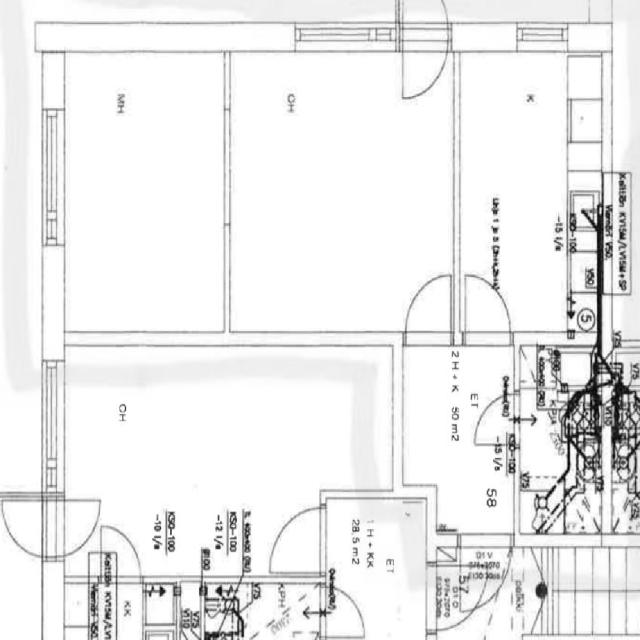door: (397, 348, 516, 512), (393, 1, 452, 111), (264, 498, 329, 582), (396, 266, 456, 354), (456, 266, 514, 354), (0, 489, 51, 562), (51, 492, 103, 562), (319, 580, 368, 639), (100, 523, 144, 584), (468, 392, 514, 448)
window: (457, 11, 616, 56), (34, 78, 72, 255), (292, 11, 398, 62), (34, 360, 70, 496)
zone: (222, 31, 459, 340), (61, 363, 352, 563), (52, 44, 229, 350), (455, 28, 601, 349), (396, 338, 513, 529), (514, 397, 635, 537), (324, 493, 429, 640), (0, 484, 45, 640), (141, 578, 186, 640)
